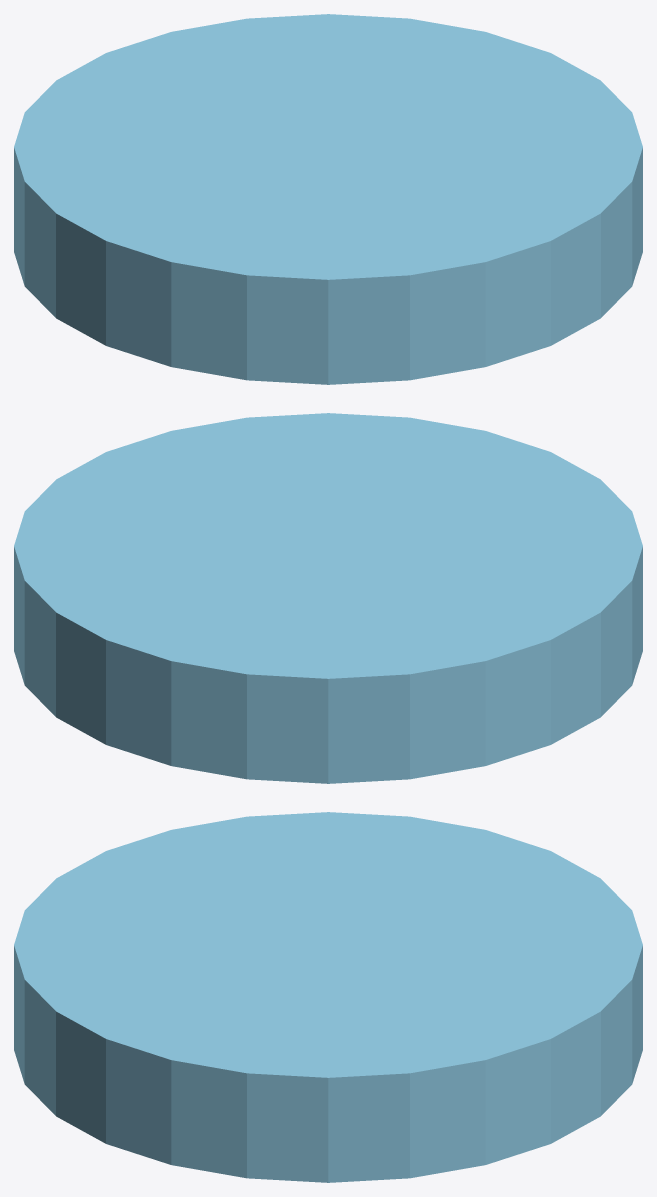
File: th_pool.glb
The picture shows the model from 3 angles, top to bottom: view 1: azimuth 30°, elevation 25°; view 2: azimuth 150°, elevation 25°; view 3: azimuth 270°, elevation 25°; orthographic projection.
Visible parts, largest first — view 1: pool; view 2: pool; view 3: pool.
Boxes of the visible parts, x1=… form: pool: x1=14, y1=14, x2=642, y2=384; pool: x1=14, y1=413, x2=642, y2=783; pool: x1=14, y1=812, x2=642, y2=1182.
Size of the model in its own units: 1.9 by 0.35 by 1.9.
